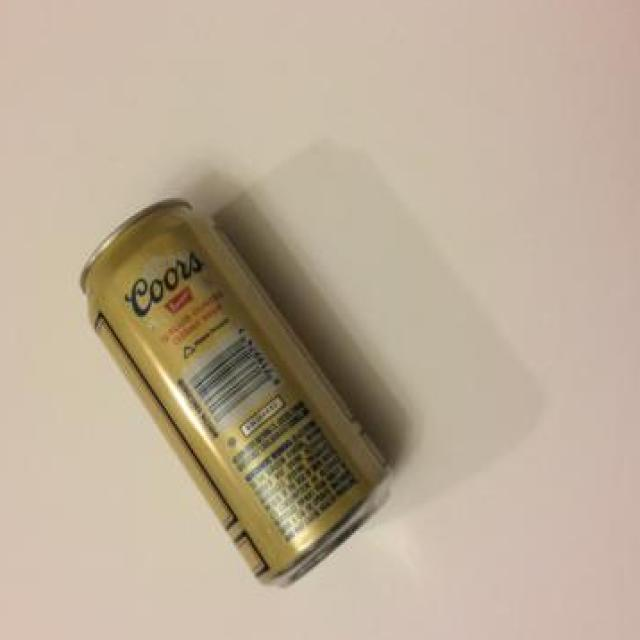organic: (59, 194, 415, 594)
